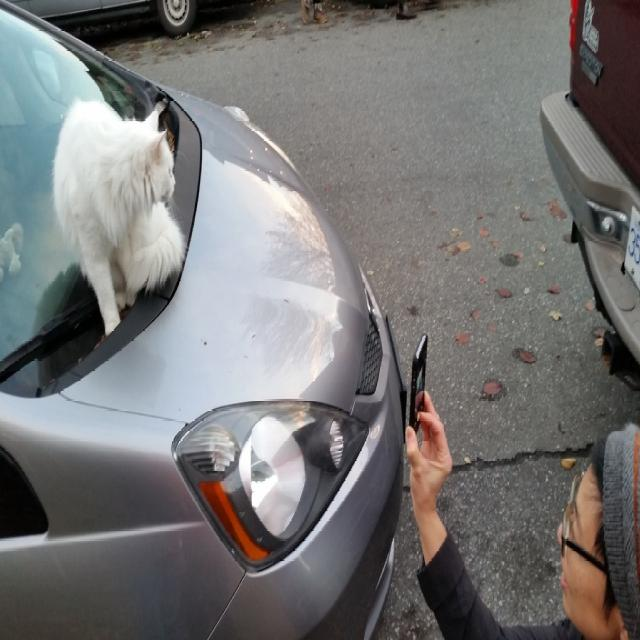Cat: (50, 99, 186, 332)
